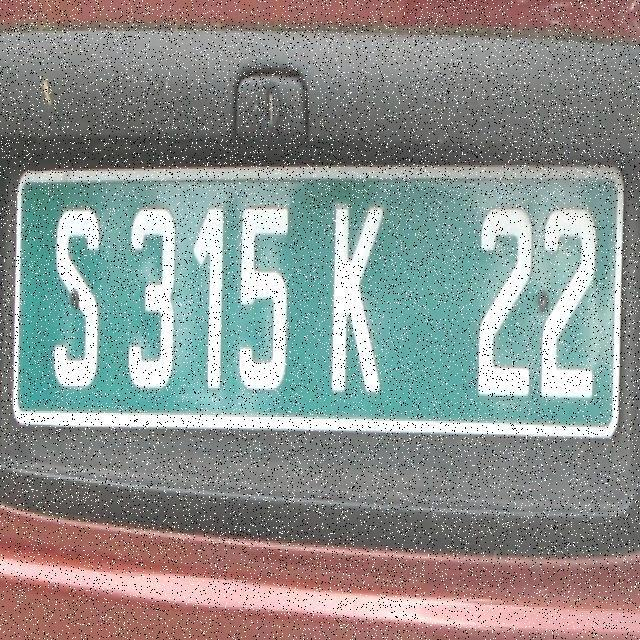LicensePlate: (11, 117, 631, 503)
